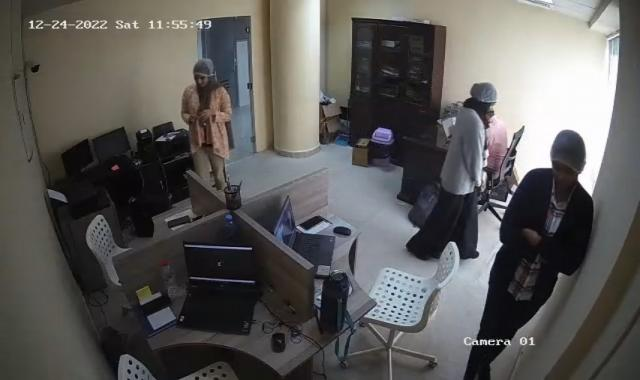hairnet: (549, 130, 588, 194), (468, 81, 499, 114), (192, 59, 215, 92)
